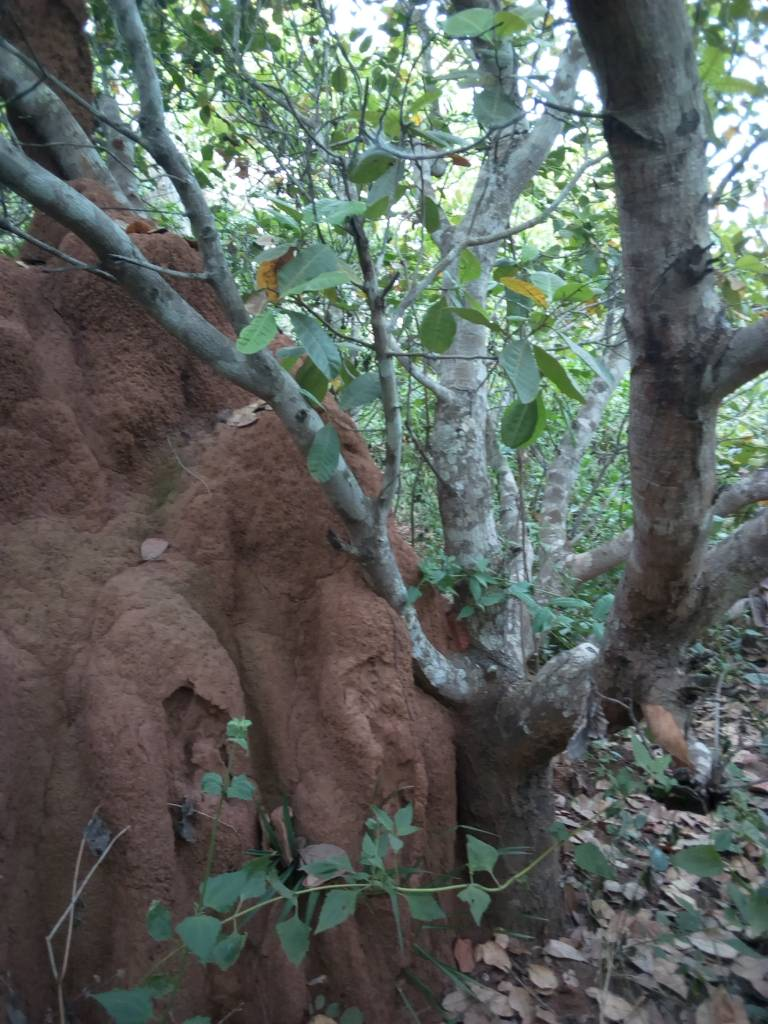Termites: (1, 374, 238, 1002), (244, 474, 407, 827)
